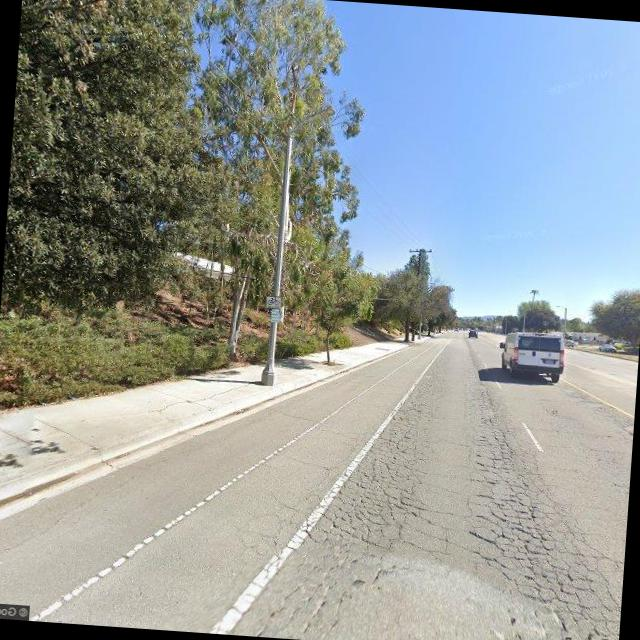crack: (257, 371, 635, 640), (450, 394, 635, 640)
